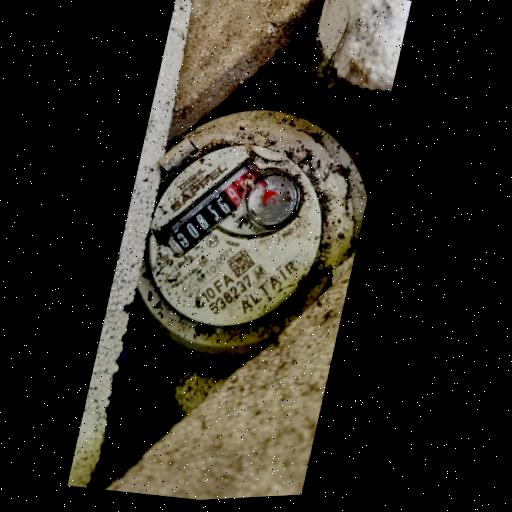0: (166, 223, 197, 254), (177, 215, 207, 244)
5: (197, 197, 229, 227), (228, 172, 256, 199)
6: (207, 187, 240, 219)
7: (240, 165, 262, 187)
8: (187, 206, 218, 237)
9: (219, 181, 249, 209)
border_water_meter_number: (150, 142, 278, 272)
